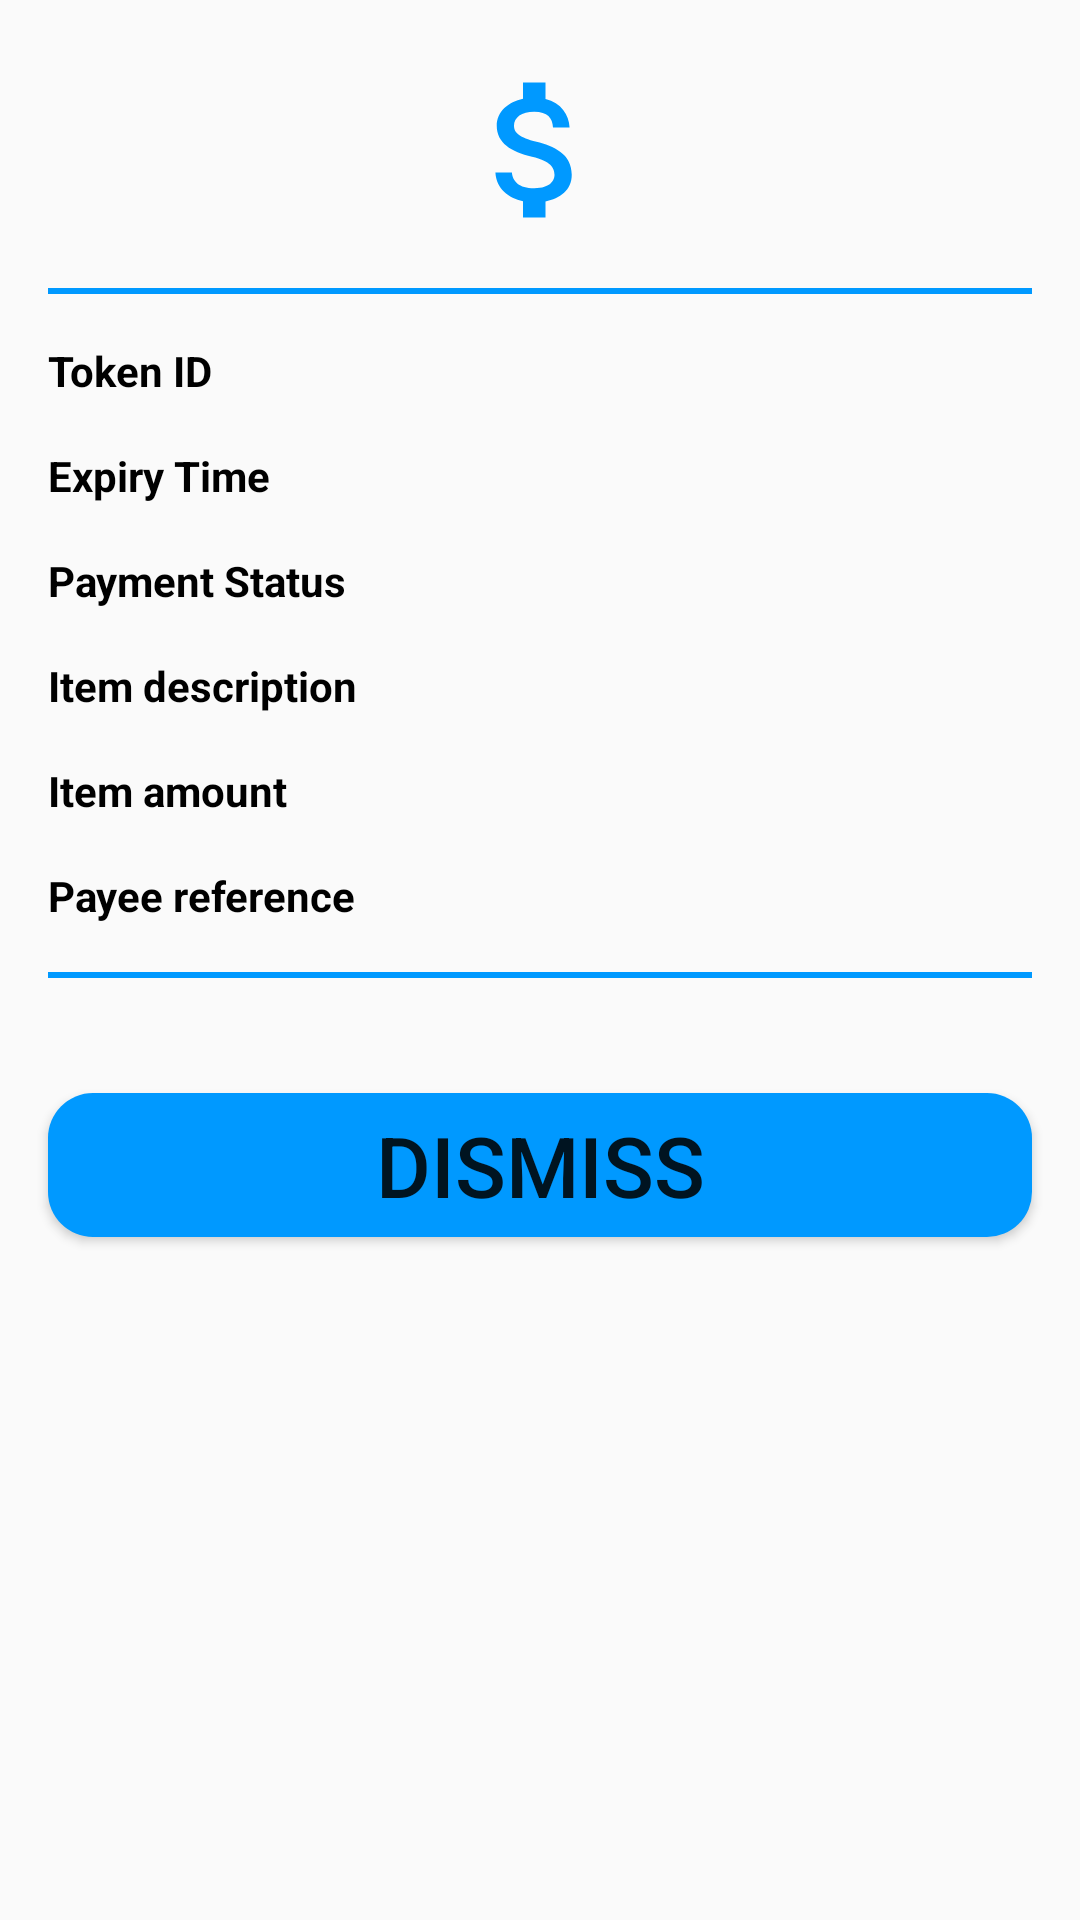

Point at icon controls on the screen. Image size 1080x1920, points as (x=x, y=y).
attach money: (x=533, y=150)
